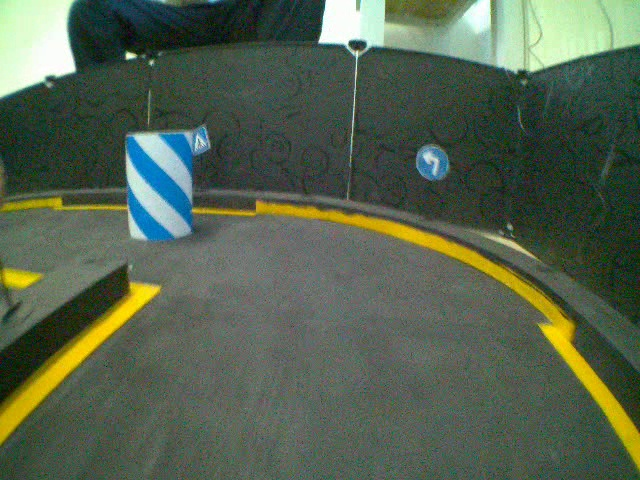bucket: (121, 128, 198, 243)
